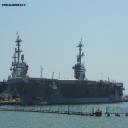Portanaves: (9, 20, 127, 112)
